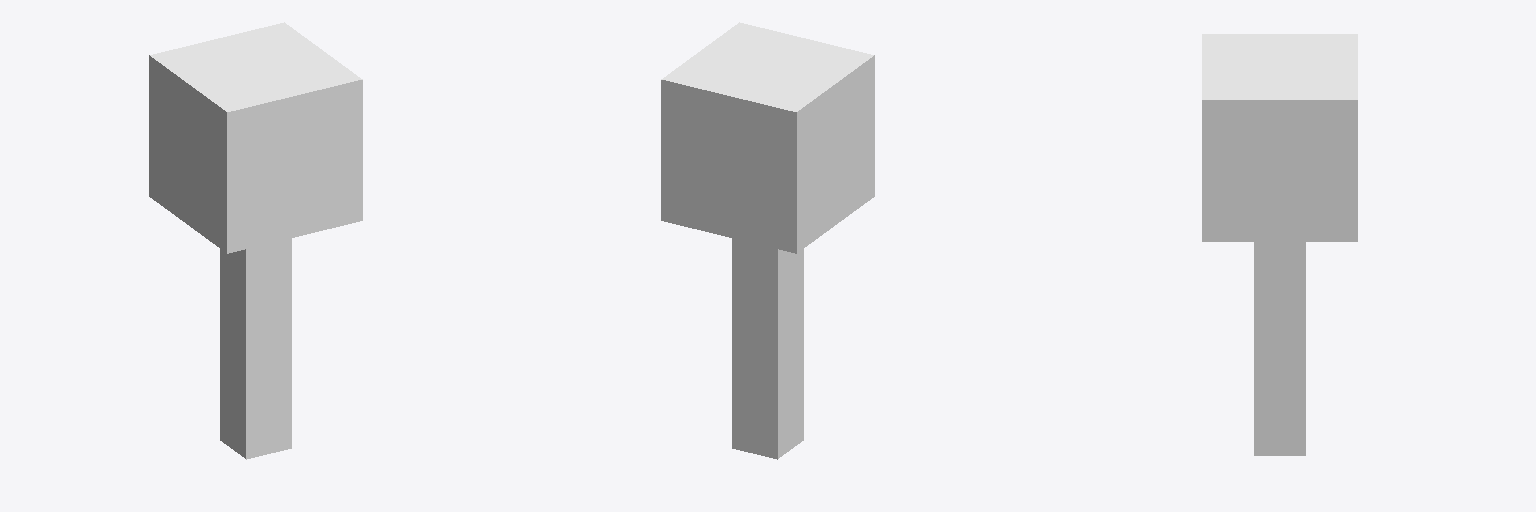
File: Bum.obj
The picture shows the model from 3 angles: view 1: azimuth 30°, elevation 25°; view 2: azimuth 150°, elevation 25°; view 3: azimuth 270°, elevation 25°; orthographic projection.
Parts seen in each view (by area): view 1: object 1; view 2: object 1; view 3: object 1.
Part boxes in pixels (left/top/right/bottom): object 1: left=149, top=22, right=362, bottom=459; object 1: left=661, top=22, right=874, bottom=459; object 1: left=1202, top=34, right=1357, bottom=455.
Bounding box in the file's own units: 0.3 × 0.8 × 0.3.